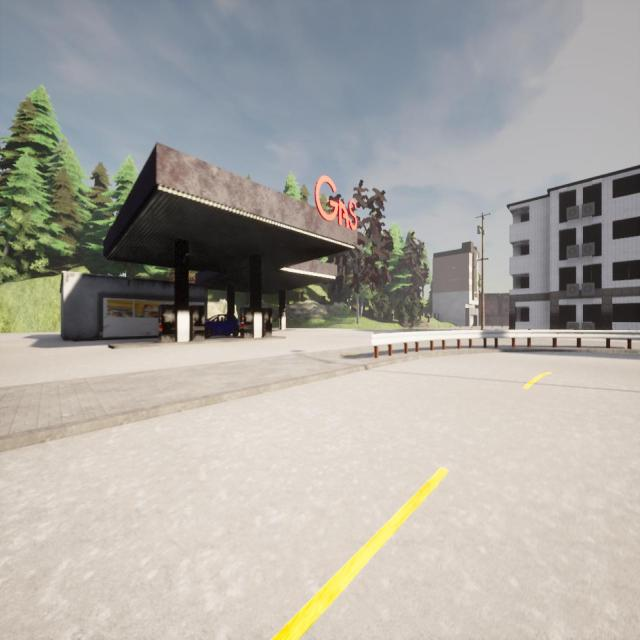Vehicle: (203, 313, 239, 337)
